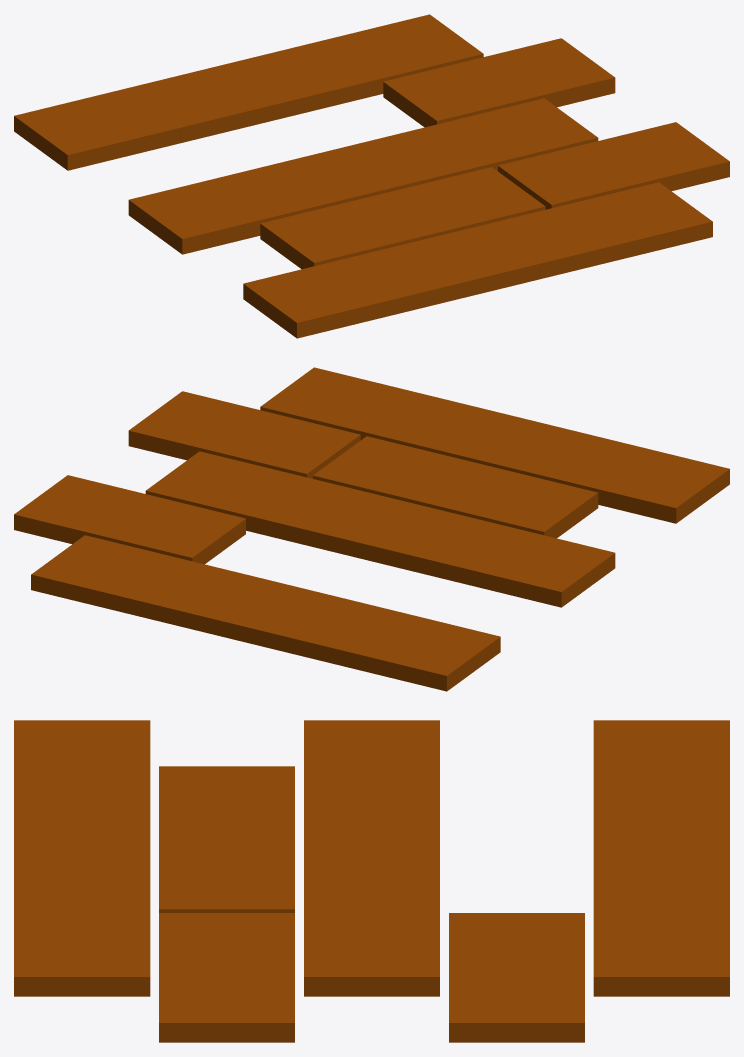
File: RPG_Tiles_Square_Wooden_Boards_09.FBX
3 renders of one model, top to bottom at view 1: azimuth 30°, elevation 25°; view 2: azimuth 150°, elevation 25°; view 3: azimuth 270°, elevation 25°, orthographic. The views are drawn at different scales.
Parts seen in each view (by area): view 1: RPG_Tiles_Square_Wooden_Boards_09; view 2: RPG_Tiles_Square_Wooden_Boards_09; view 3: RPG_Tiles_Square_Wooden_Boards_09.
Boxes of the visible parts, box(x1,y1,x2,y2) form: RPG_Tiles_Square_Wooden_Boards_09: box(14, 14, 729, 338); RPG_Tiles_Square_Wooden_Boards_09: box(14, 367, 729, 691); RPG_Tiles_Square_Wooden_Boards_09: box(14, 720, 729, 1042).
Bounding box in the file's own units: 2964 × 90 × 2964.
